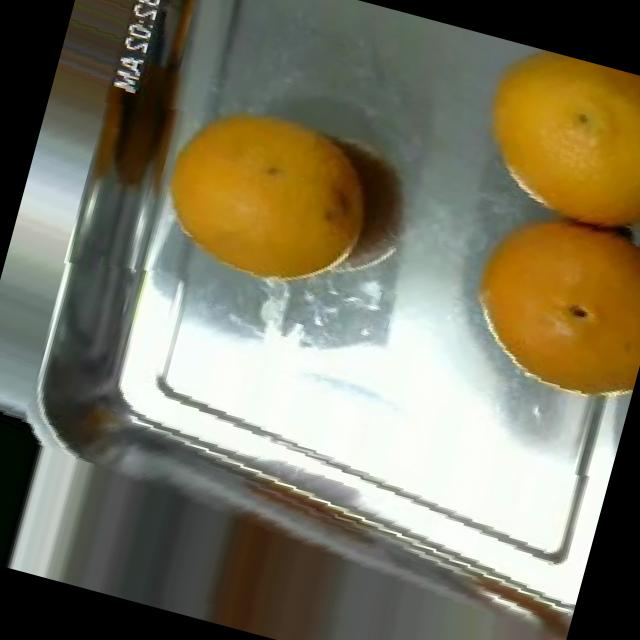Fruit: (167, 485, 402, 640)
